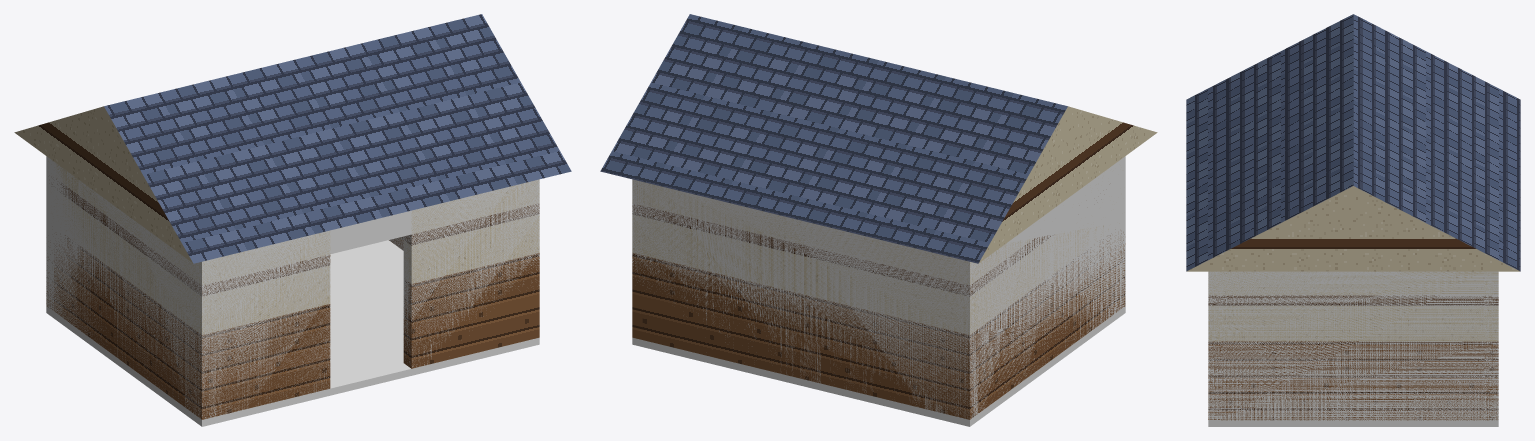
File: cottage.glb
The picture shows the model from 3 angles, left to right: view 1: azimuth 30°, elevation 25°; view 2: azimuth 150°, elevation 25°; view 3: azimuth 270°, elevation 25°; orthographic projection. The views are drawn at different scales.
Visible parts, largest first — view 1: roof, col_wall_west, col_wall_south_w, col_wall_south_e, col_floor, wall_west_low, wall_south_e_low, wall_south_w_low, wall_south_e_high, wall_west_high, wall_south_w_high, col_lintel (+1 smaller); view 2: roof, col_wall_north, wall_north_low, col_wall_west, wall_north_high, wall_west_low, col_floor, wall_west_high, col_wall_east, wall_east_low; view 3: roof, col_wall_east, wall_east_low, wall_east_high, col_floor, col_wall_south_e, col_wall_north.
Part boxes in pixels (x1,y1,x2,y2): roof: (14,14,571,263); col_wall_west: (46,157,215,426); col_wall_south_w: (194,230,330,426); col_wall_south_e: (403,179,539,375); col_floor: (46,240,539,426); wall_west_low: (46,234,215,418); wall_south_e_low: (403,253,539,368); wall_south_w_low: (194,304,330,419); wall_south_e_high: (403,180,539,283); wall_west_high: (54,163,215,333); wall_south_w_high: (194,231,330,334); col_lintel: (330,210,411,254); roof: (600,14,1157,263); col_wall_north: (632,179,977,426); wall_north_low: (632,254,977,419); col_wall_west: (956,156,1125,426); wall_north_high: (632,181,977,334); wall_west_low: (956,232,1125,419); col_floor: (632,306,1125,426); wall_west_high: (957,223,1119,333); col_wall_east: (632,179,644,346); wall_east_low: (632,253,645,340); roof: (1186,14,1520,271); col_wall_east: (1208,271,1498,426); wall_east_low: (1208,341,1498,420); wall_east_high: (1208,271,1498,341); col_floor: (1208,420,1498,426); col_wall_south_e: (1208,271,1222,426); col_wall_north: (1484,272,1498,426).
Size of the model in its own units: 5.6 by 3.8 by 4.6.
4 materials, 4 textured.
